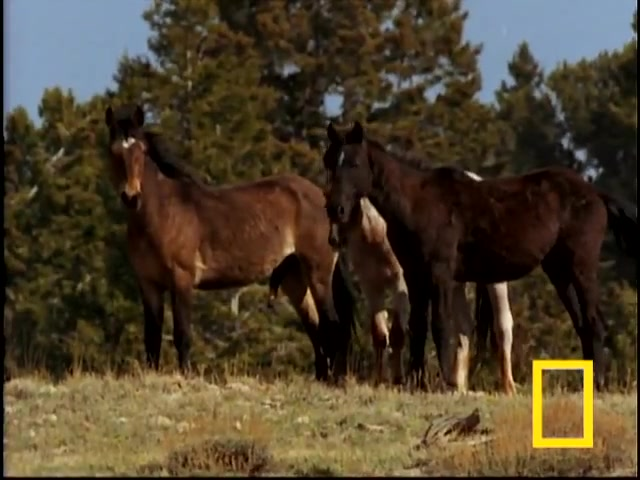horse: (321, 117, 613, 389)
